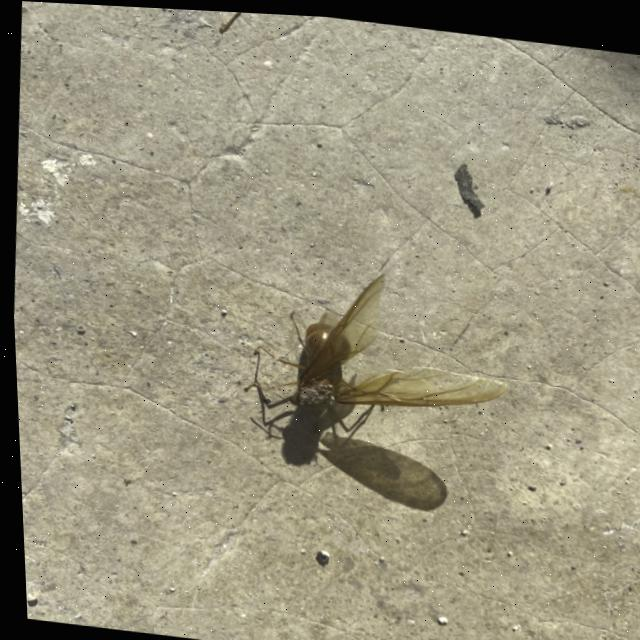Alive-Male-Alate: (232, 254, 514, 452)
